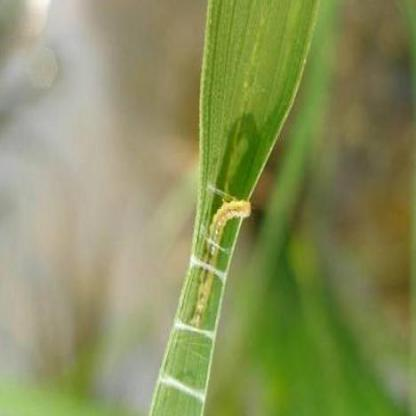leaf-folder: (163, 162, 288, 335)
